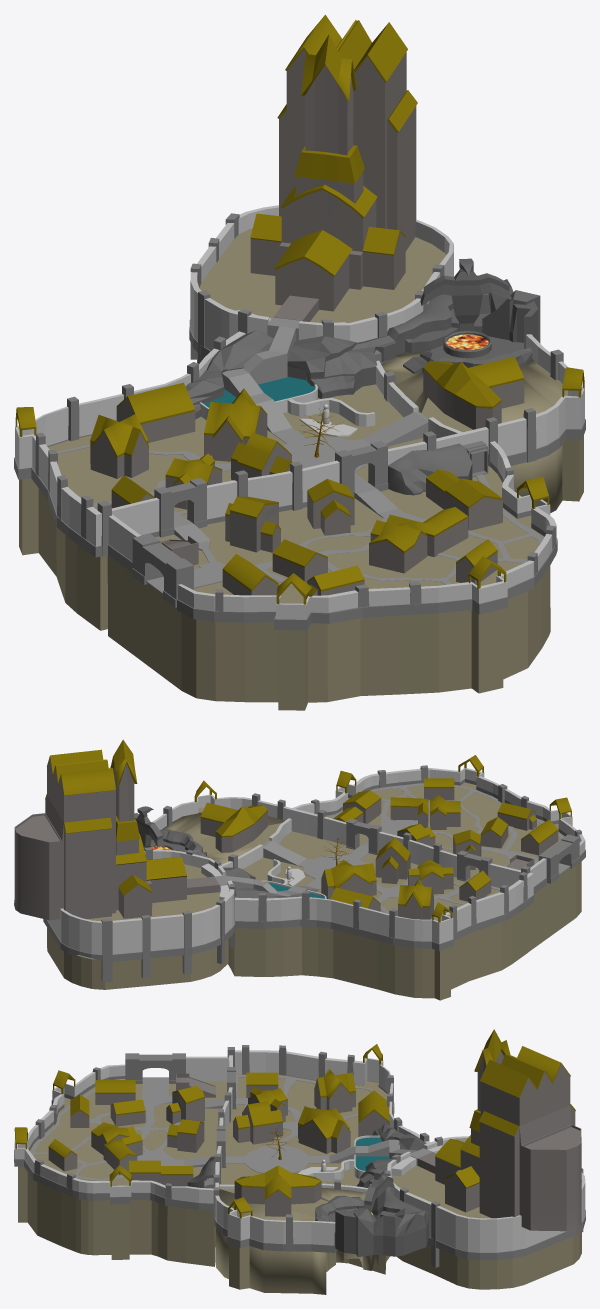
Rendered from whiterun.glb.
3 views of the same model, one above another, from view 1: azimuth 30°, elevation 25°; view 2: azimuth 150°, elevation 25°; view 3: azimuth 270°, elevation 25° (orthographic). The views are drawn at different scales.
Parts seen in each view (by area): view 1: Floors, Walls, Dragonsearch, Houses, Box001, Cylinder001; view 2: Floors, Walls, Dragonsearch, Houses, Box001; view 3: Floors, Walls, Dragonsearch, Houses, Box001.
Boxes of the visible parts, x1=… form: Floors: x1=19, y1=228, x2=583, y2=710; Walls: x1=14, y1=205, x2=585, y2=630; Dragonsearch: x1=250, y1=14, x2=417, y2=321; Houses: x1=90, y1=356, x2=524, y2=599; Box001: x1=420, y1=258, x2=511, y2=331; Cylinder001: x1=443, y1=331, x2=491, y2=358; Floors: x1=47, y1=782, x2=581, y2=1000; Walls: x1=43, y1=755, x2=585, y2=982; Dragonsearch: x1=14, y1=739, x2=219, y2=920; Houses: x1=200, y1=778, x2=558, y2=919; Box001: x1=134, y1=806, x2=164, y2=847; Floors: x1=18, y1=1074, x2=581, y2=1294; Walls: x1=14, y1=1044, x2=585, y2=1267; Dragonsearch: x1=417, y1=1029, x2=581, y2=1231; Houses: x1=48, y1=1068, x2=389, y2=1216; Box001: x1=363, y1=1169, x2=394, y2=1219.
Size of the model in its own units: 0.8931 by 0.5729 by 1.18.
Materials: 10 (1 with a texture image).
